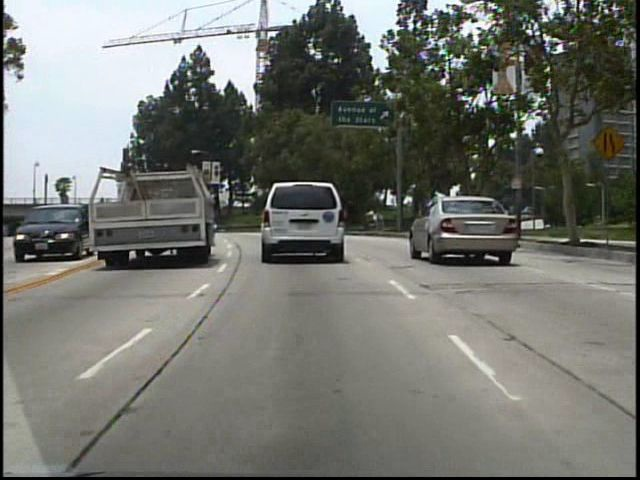person: (476, 192, 495, 241)
